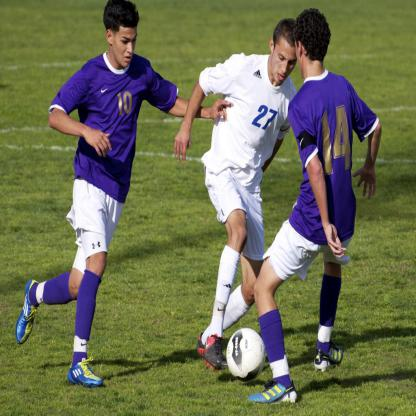face: (272, 38, 296, 87), (113, 26, 138, 70)
